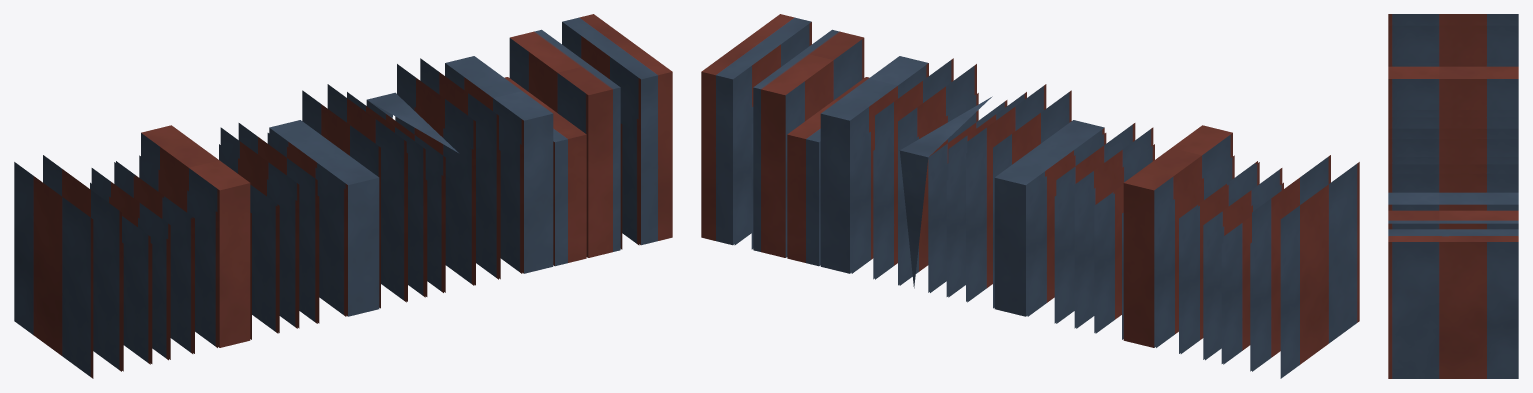
The model's file is BookGroup_Medium_1_LOD2.gltf.
3 renders of one model, left to right at view 1: azimuth 30°, elevation 25°; view 2: azimuth 150°, elevation 25°; view 3: azimuth 270°, elevation 25°, orthographic. The views are drawn at different scales.
Parts seen in each view (by area): view 1: BookGroup_Medium_1_LOD2; view 2: BookGroup_Medium_1_LOD2; view 3: BookGroup_Medium_1_LOD2.
Boxes of the visible parts, x1,y1,x2,y2 form: BookGroup_Medium_1_LOD2: (14, 14, 672, 378); BookGroup_Medium_1_LOD2: (701, 14, 1359, 378); BookGroup_Medium_1_LOD2: (1388, 14, 1518, 378).
Size of the model in its own units: 1.06 by 0.29 by 0.25.
1 material, 1 textured.
